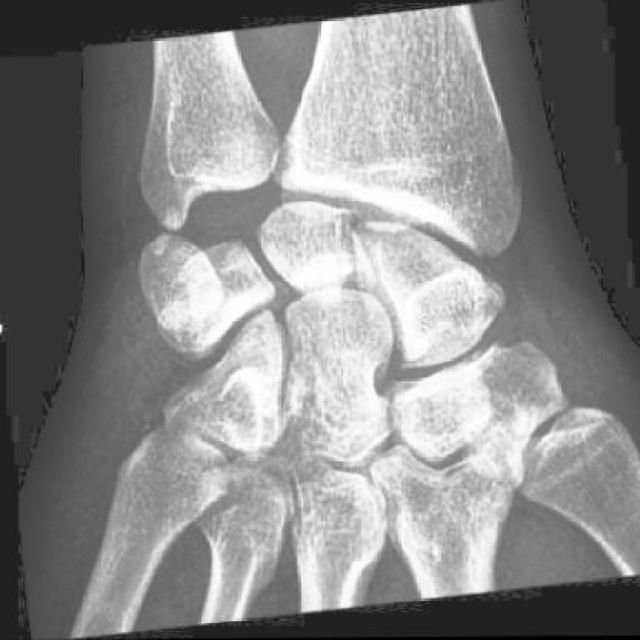Fracture: (159, 286, 230, 369)
